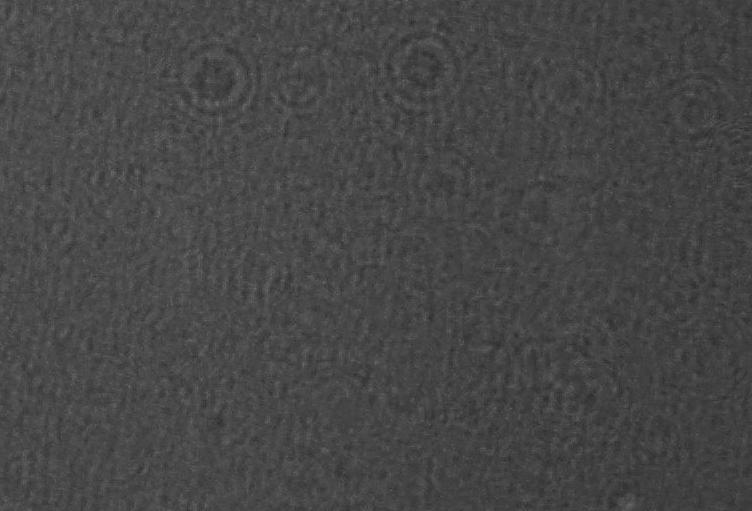bead: (363, 13, 483, 115), (170, 36, 251, 119)
